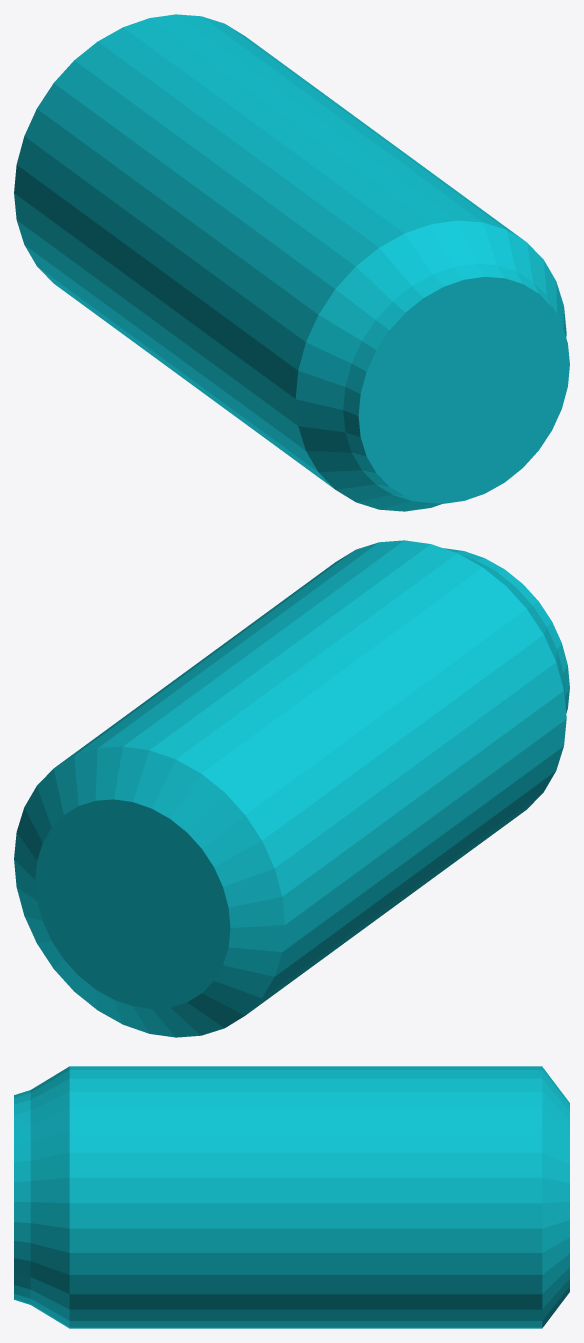
3 renders of one model, top to bottom at view 1: azimuth 30°, elevation 25°; view 2: azimuth 150°, elevation 25°; view 3: azimuth 270°, elevation 25°, orthographic. The views are drawn at different scales.
Visible parts, largest first — view 1: Equipment; view 2: Equipment; view 3: Equipment.
Part boxes in pixels (bbox=[...]): Equipment: bbox=[14, 14, 569, 511]; Equipment: bbox=[14, 540, 569, 1037]; Equipment: bbox=[14, 1066, 569, 1328].
Bounding box in the file's own units: 1.7 × 1.7 × 3.6.
